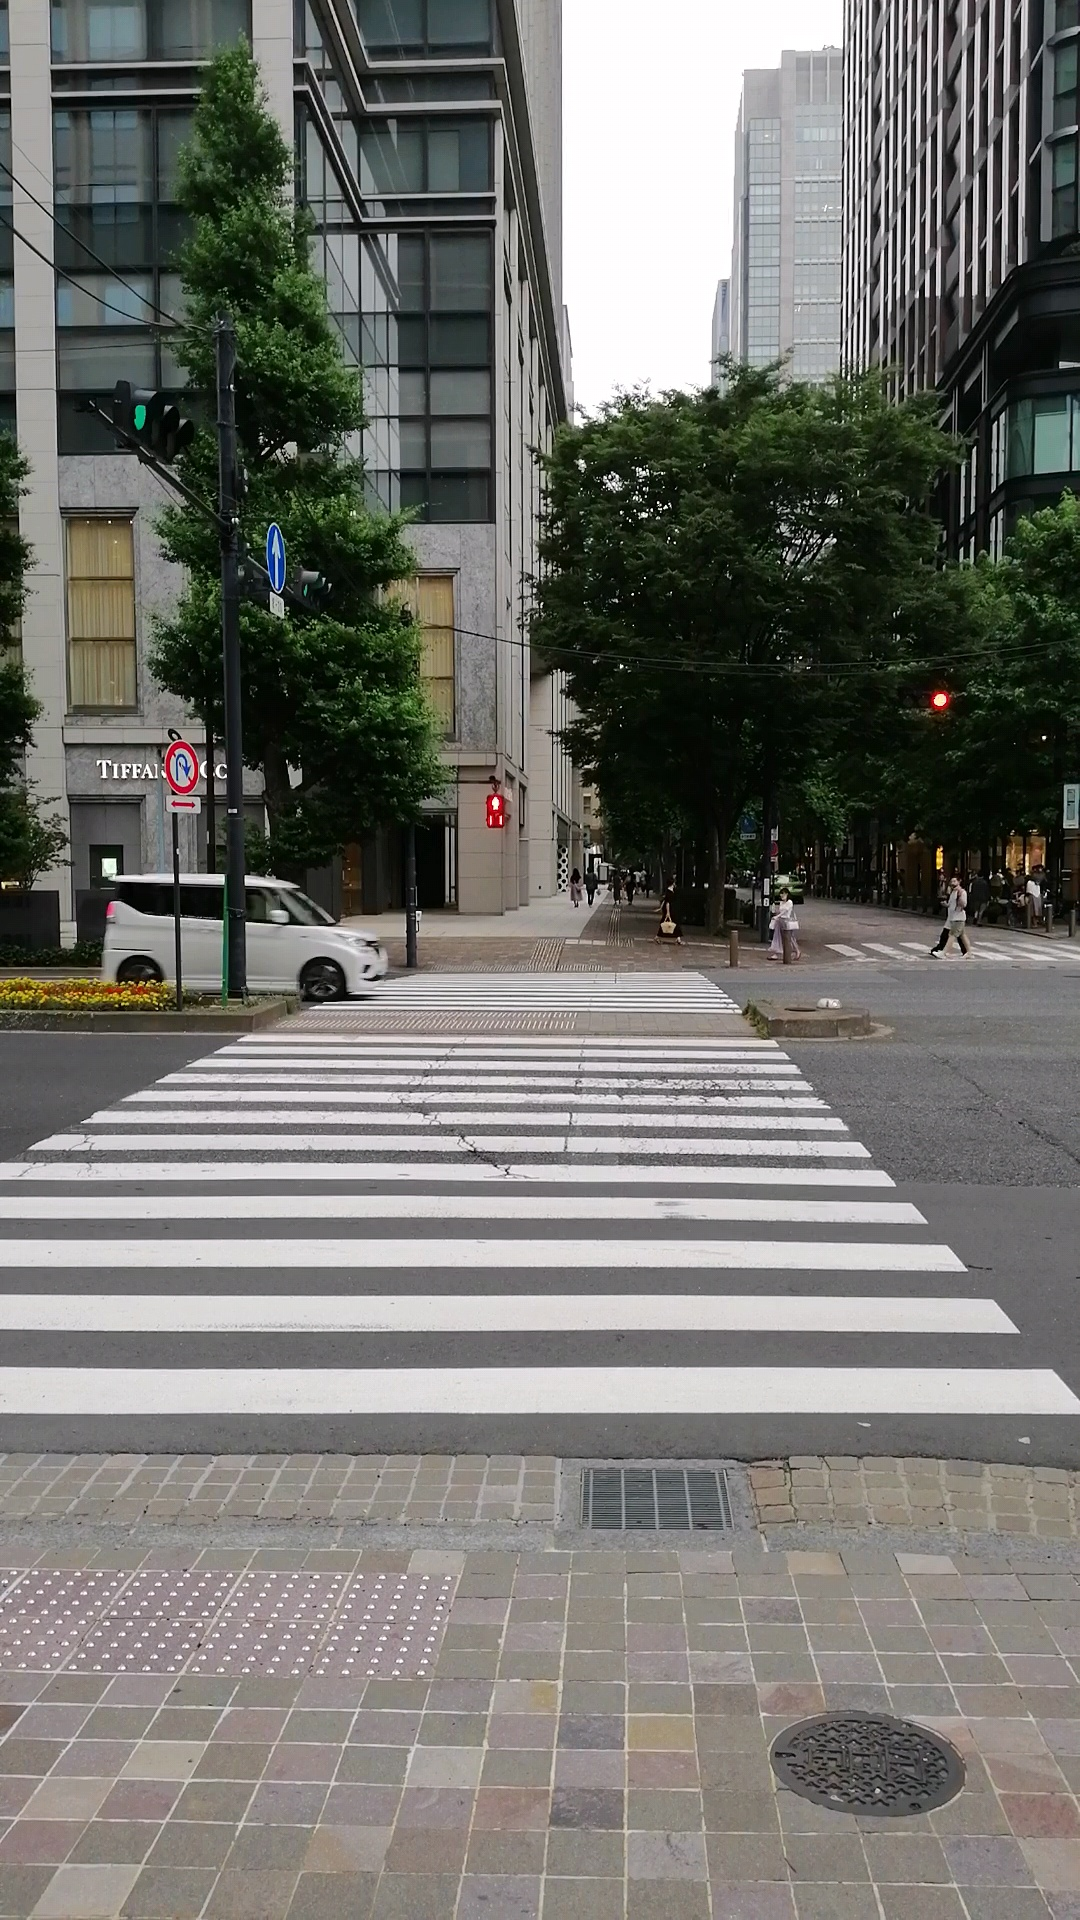red: (483, 791, 506, 828)
